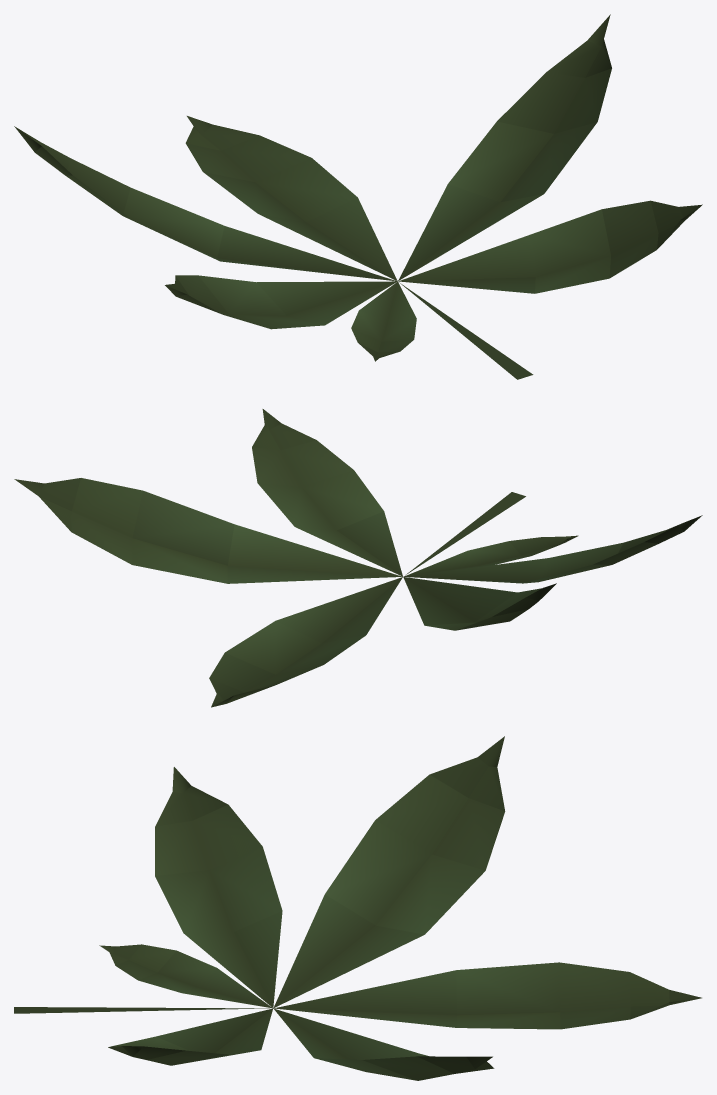
File: trees-leaves-chestnut-leaf_v2.glb
3 renders of one model, top to bottom at view 1: azimuth 30°, elevation 25°; view 2: azimuth 150°, elevation 25°; view 3: azimuth 270°, elevation 25°, orthographic. The views are drawn at different scales.
Parts seen in each view (by area): view 1: Chestnut Leaf_v2; view 2: Chestnut Leaf_v2; view 3: Chestnut Leaf_v2.
Boxes of the visible parts, x1,y1,x2,y2 form: Chestnut Leaf_v2: (14,14,702,379); Chestnut Leaf_v2: (14,409,702,707); Chestnut Leaf_v2: (14,736,701,1080).
Size of the model in its own units: 0.25 by 0.0572 by 0.2438.
